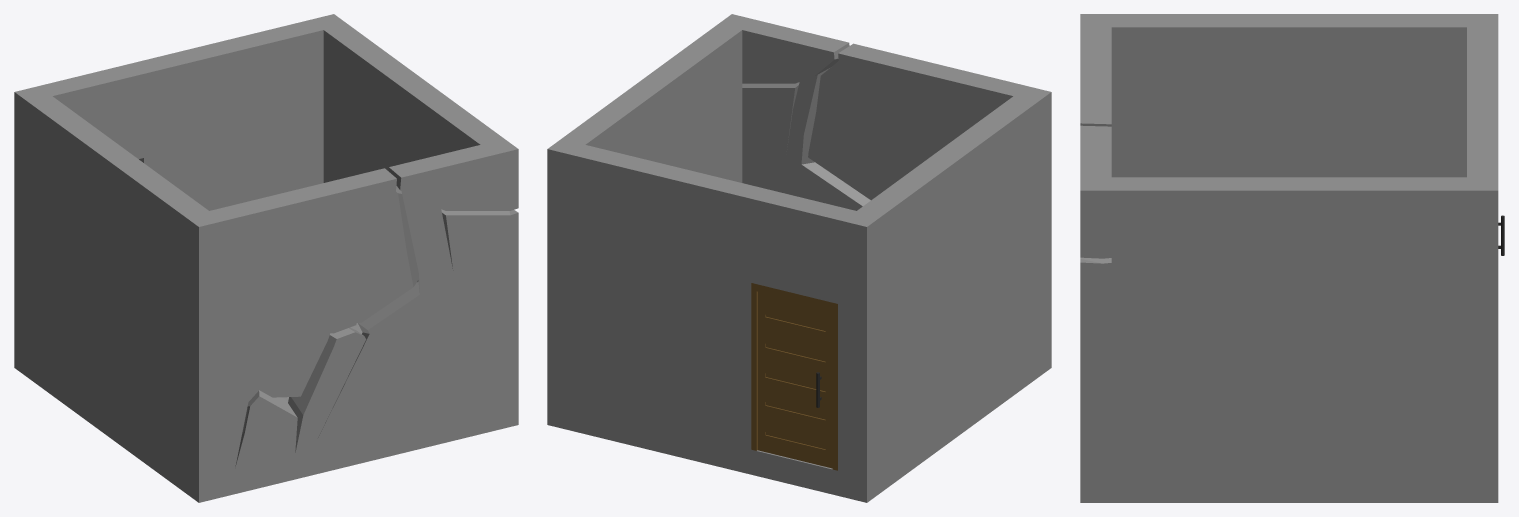
The model's file is MSH_Room_SingleDoor_Front_Damaged_02.fbx.
The picture shows the model from 3 angles, left to right: view 1: azimuth 30°, elevation 25°; view 2: azimuth 150°, elevation 25°; view 3: azimuth 270°, elevation 25°; orthographic projection. The views are drawn at different scales.
Parts seen in each view (by area): view 1: MSH_Room_SingleDoor_Front_Damaged_02, MSH_Room_SingleDoor_Front; view 2: MSH_Room_SingleDoor_Front_Damaged_02, MSH_Room_SingleDoor_Front, MSH_Door_Single, MSH_DoorFrame_Single; view 3: MSH_Room_SingleDoor_Front_Damaged_02, MSH_Room_SingleDoor_Front.
Part boxes in pixels (x1,y1,x2,y2): MSH_Room_SingleDoor_Front_Damaged_02: [14, 14, 518, 502]; MSH_Room_SingleDoor_Front: [185, 139, 518, 477]; MSH_Room_SingleDoor_Front_Damaged_02: [547, 24, 1051, 502]; MSH_Room_SingleDoor_Front: [718, 14, 1051, 352]; MSH_Door_Single: [758, 291, 832, 468]; MSH_DoorFrame_Single: [751, 283, 837, 470]; MSH_Room_SingleDoor_Front_Damaged_02: [1080, 14, 1498, 502]; MSH_Room_SingleDoor_Front: [1080, 14, 1111, 474].
Size of the model in its own units: 157 by 130 by 160.
